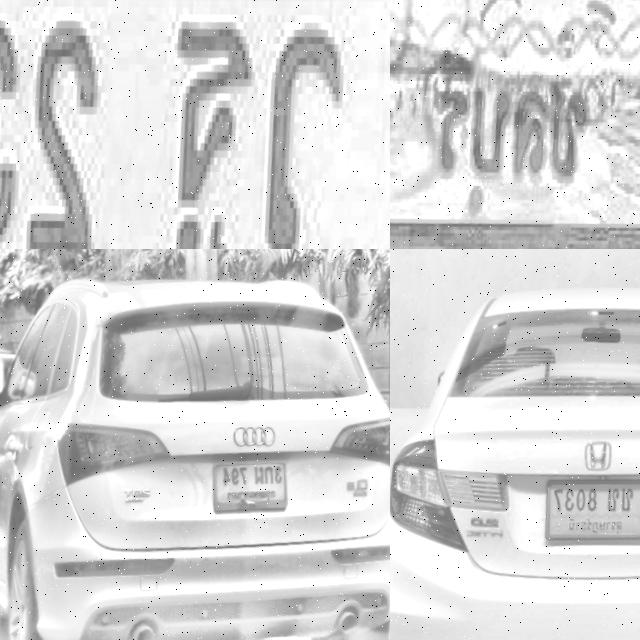license-plate: (0, 0, 390, 249), (390, 0, 640, 249), (534, 464, 640, 564), (203, 443, 289, 527)
